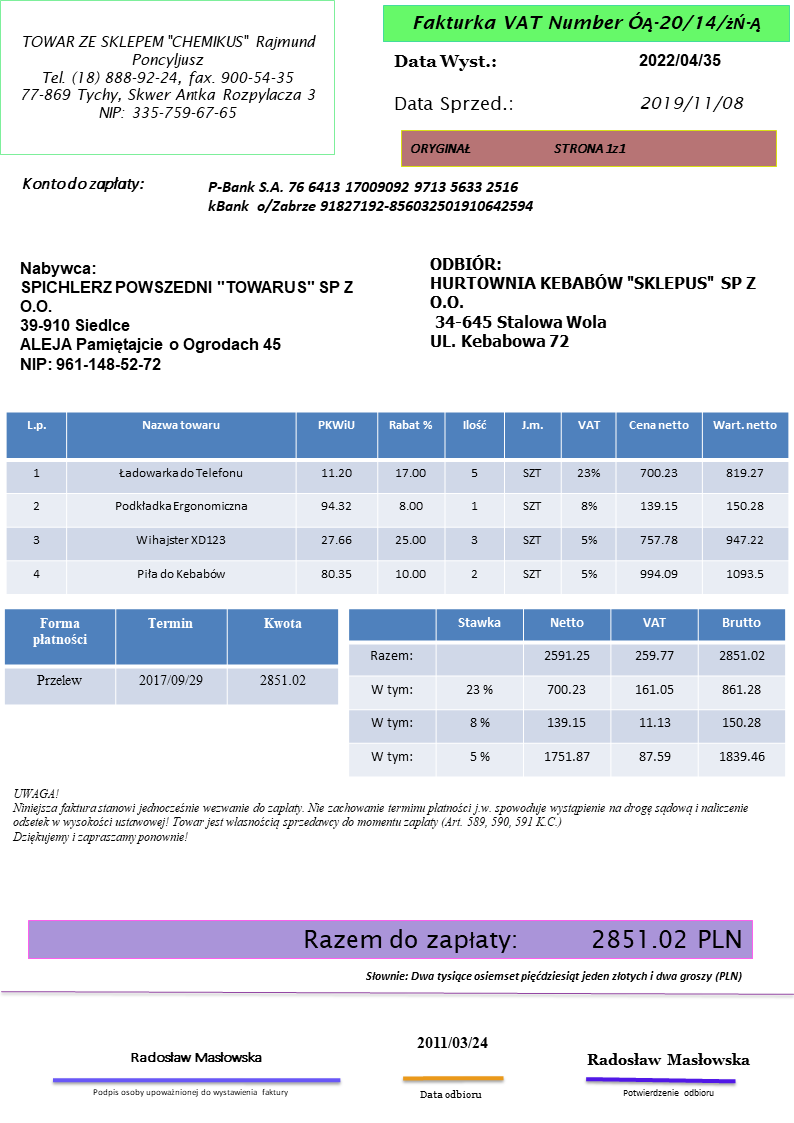Table: (4, 408, 789, 594), (345, 605, 786, 777), (4, 608, 338, 705)
TextBox: (12, 782, 754, 847), (16, 256, 358, 375), (425, 252, 761, 352), (15, 27, 321, 124), (301, 924, 744, 956), (203, 176, 539, 217), (407, 10, 765, 37), (362, 965, 746, 987), (405, 138, 631, 160), (583, 1049, 751, 1071), (90, 1082, 293, 1100), (17, 170, 147, 196), (390, 92, 517, 117), (636, 91, 748, 115), (390, 50, 501, 74), (126, 1047, 266, 1065), (635, 48, 723, 70), (411, 1032, 492, 1053), (621, 1085, 718, 1101), (416, 1085, 485, 1103)
